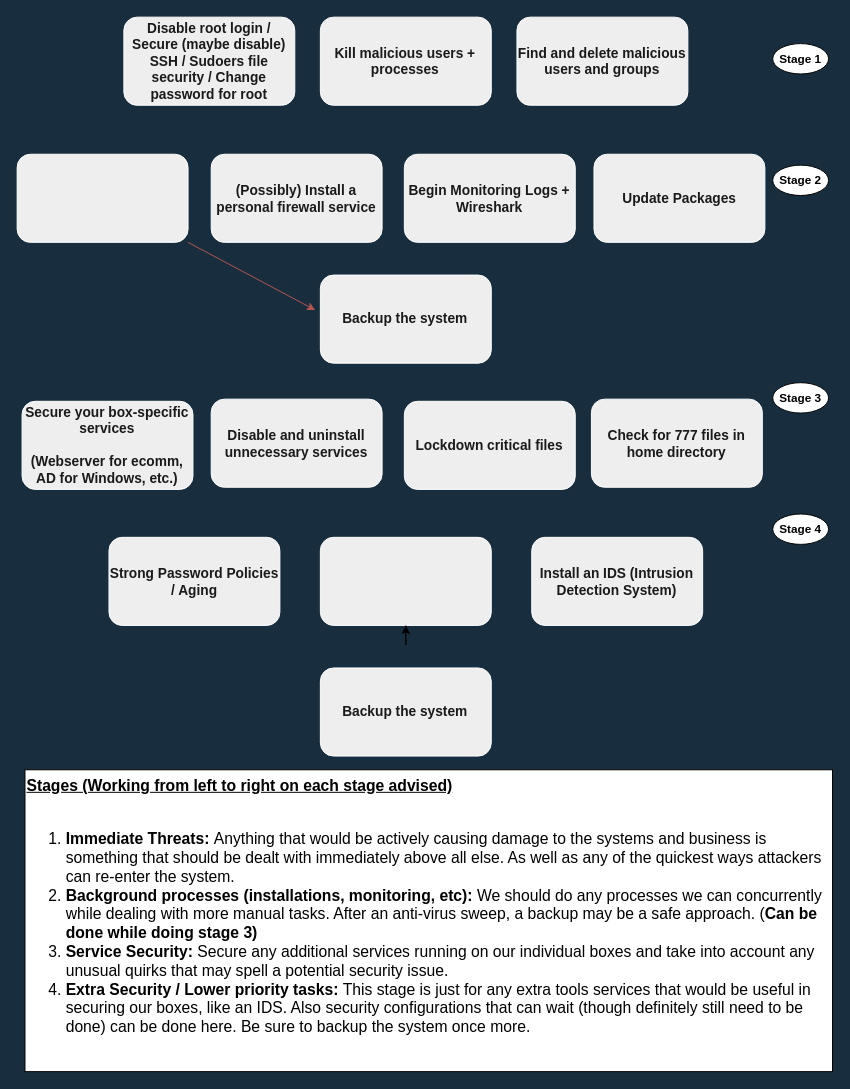
This 850x1089 diagram has some shape labels left out. The box of each missing label's shape, as (x1, y1, x2, y2) in pixels:
Install and Run Antivirus (clamav) software + Run an nmap vuln scan: (16, 153, 188, 242)
Login.defs: - FAILLOG_ENAB = yes - CREATE_HOME = yes: (319, 536, 491, 625)
